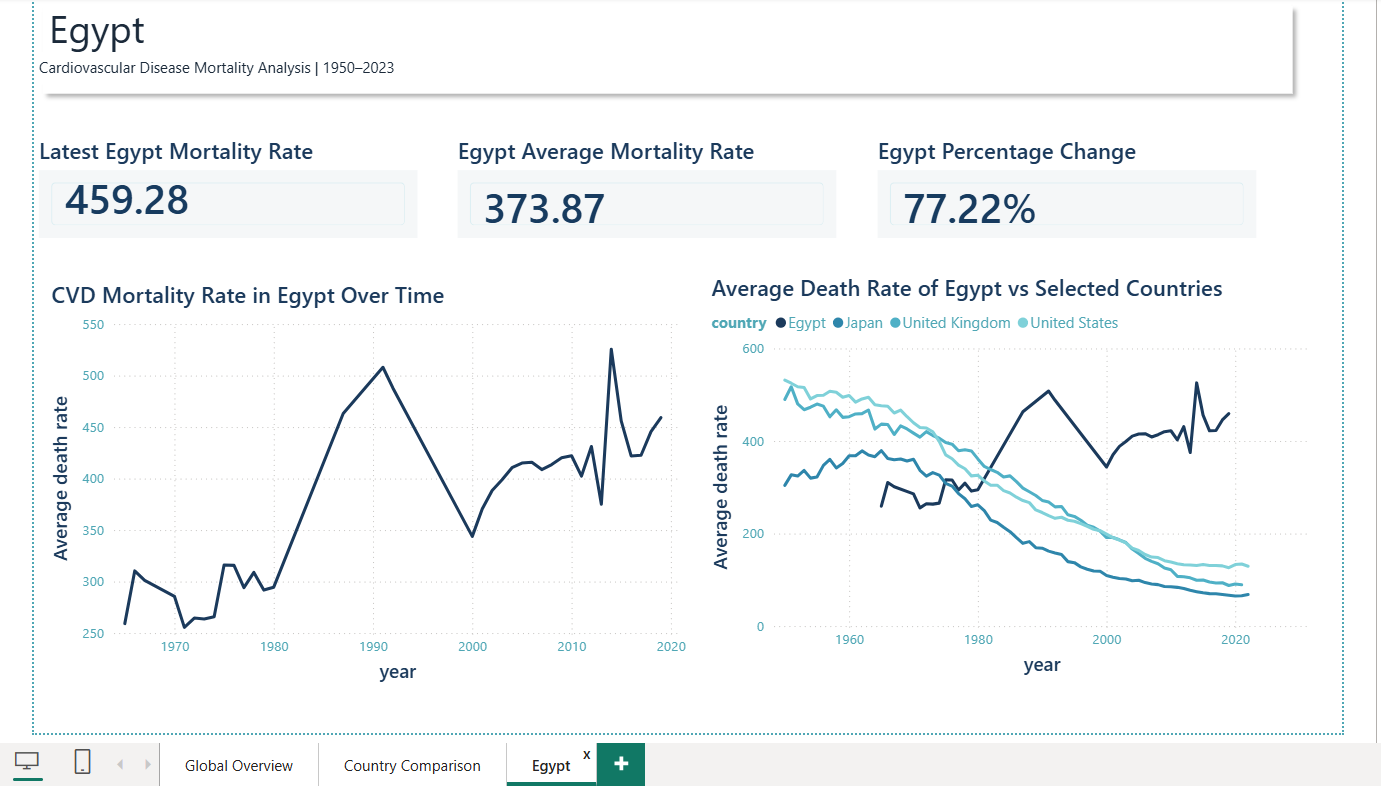

This screenshot's page, from the dashboard's own definition file:
{"tool":"powerbi","page":{"name":"Egypt","canvas":[1280,720],"ordinal":2},"visuals":[{"type":"lineChart","title":"CVD Mortality Rate in Egypt Over Time","fields":{"Category":["cvd_mortality_clean.year"],"Y":["Avg(cvd_mortality_clean.death_rate)"]},"box":[12.2,276.4,631,399.9],"z":0},{"type":"lineChart","title":"Average Death Rate of Egypt vs Selected Countries","fields":{"Category":["cvd_mortality_clean.year"],"Y":["Avg(cvd_mortality_clean.death_rate)"],"Series":["cvd_mortality_clean.country"]},"box":[657.9,269,600.4,399.9],"z":1000},{"type":"cardVisual","title":"Latest Egypt Mortality Rate","fields":{"Data":["cvd_mortality_clean.latest_mortality_rate"]},"box":[0,136,380,105],"z":2000},{"type":"cardVisual","title":"Egypt Average Mortality Rate","fields":{"Data":["cvd_mortality_clean.Average"]},"box":[410,135.2,380,105],"z":3000},{"type":"cardVisual","title":"Egypt Percentage Change","fields":{"Data":["cvd_mortality_clean.percentage_change"]},"box":[820,135.2,380,105],"z":4000},{"type":"shape","box":[0,0,1240,103.3],"z":5000},{"type":"textbox","box":[10,0,1220,65.7],"z":6000},{"type":"textbox","box":[0,53.8,391.3,31.8],"z":7000}]}

Visuals, with their boxes on the page's 1280x720 design canvas (x1, y1, x2, y2). These are canvas units, not pixel positions in the 1381x786 screenshot, which may show the page scaled, cropped or inside an application window:
"CVD Mortality Rate in Egypt Over Time" lineChart: bbox=[12, 276, 643, 676]
"Average Death Rate of Egypt vs Selected Countries" lineChart: bbox=[658, 269, 1258, 669]
"Latest Egypt Mortality Rate" cardVisual: bbox=[0, 136, 380, 241]
"Egypt Average Mortality Rate" cardVisual: bbox=[410, 135, 790, 240]
"Egypt Percentage Change" cardVisual: bbox=[820, 135, 1200, 240]
shape: bbox=[0, 0, 1240, 103]
textbox: bbox=[10, 0, 1230, 66]
textbox: bbox=[0, 54, 391, 86]
